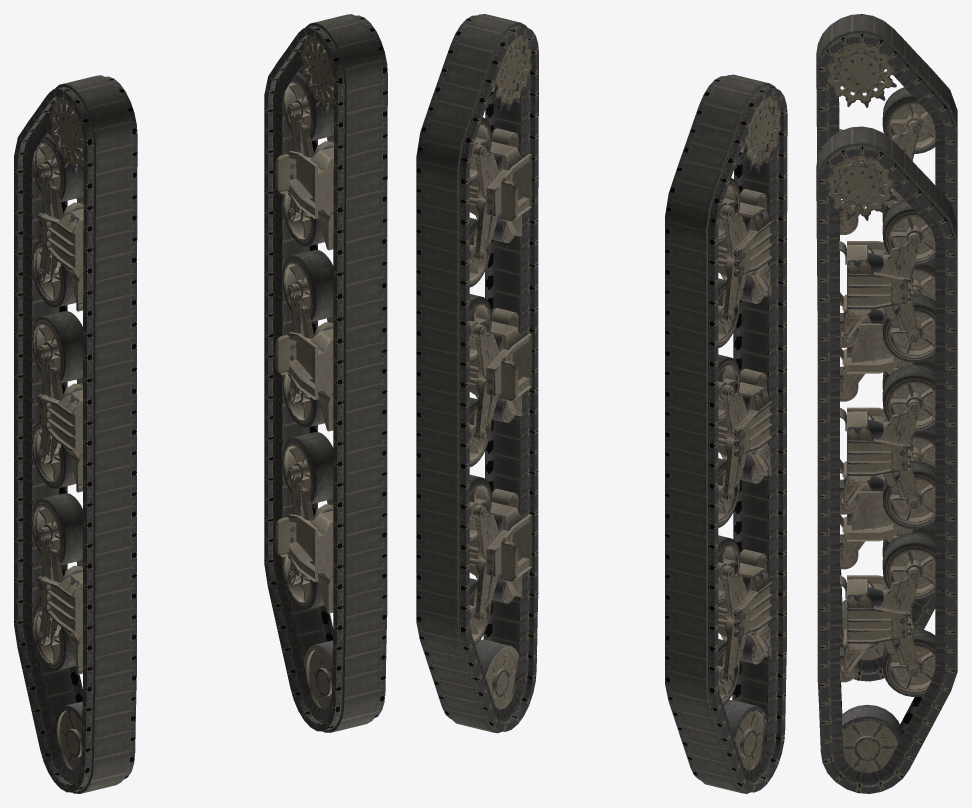
The model's file is Chassis.glb.
3 renders of one model, left to right at view 1: azimuth 30°, elevation 25°; view 2: azimuth 150°, elevation 25°; view 3: azimuth 270°, elevation 25°, orthographic. The views are drawn at different scales.
Parts seen in each view (by area): view 1: set_1_group_0, set_0_group_0, set_2_group_0, set_3_group_0; view 2: set_1_group_0, set_0_group_0, set_2_group_0, set_3_group_0; view 3: set_2_group_0, set_0_group_0, set_3_group_0, set_1_group_0.
Boxes of the visible parts, x1,y1,x2,y2 form: set_1_group_0: [14, 75, 137, 793]; set_0_group_0: [264, 14, 387, 732]; set_2_group_0: [275, 35, 334, 708]; set_3_group_0: [32, 96, 83, 769]; set_1_group_0: [665, 74, 787, 793]; set_0_group_0: [416, 14, 538, 733]; set_2_group_0: [469, 35, 531, 709]; set_3_group_0: [718, 95, 781, 769]; set_2_group_0: [826, 155, 935, 772]; set_0_group_0: [816, 126, 957, 793]; set_3_group_0: [826, 42, 935, 660]; set_1_group_0: [816, 14, 957, 681].
Size of the model in its own units: 2.55 by 5.67 by 1.12.
Materials: 4 (4 with a texture image).
